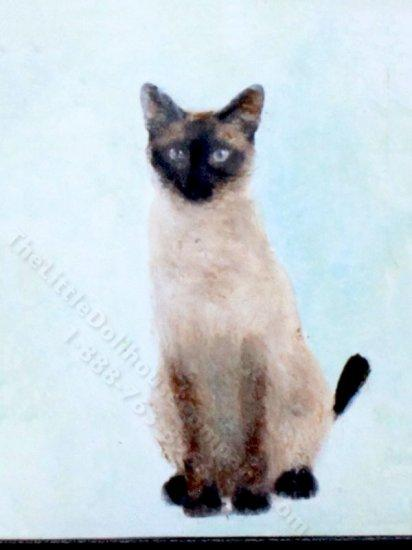siamese: (133, 75, 272, 213)
